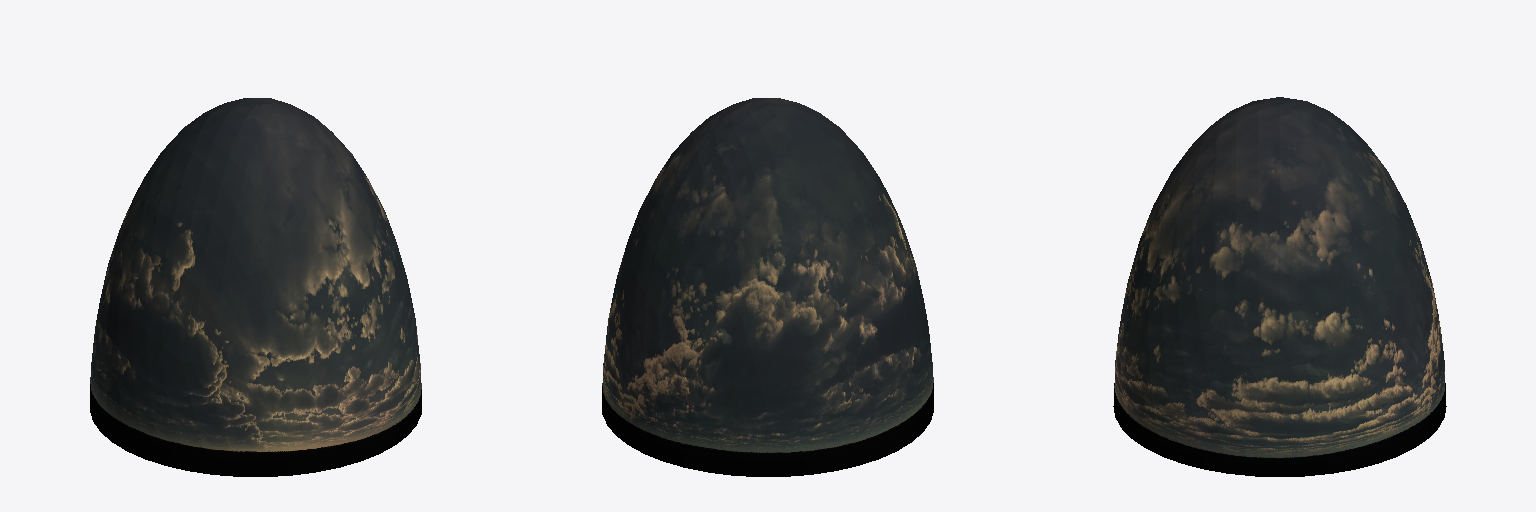
3 views of the same model, side by side, from view 1: azimuth 30°, elevation 25°; view 2: azimuth 150°, elevation 25°; view 3: azimuth 270°, elevation 25° (orthographic).
Parts seen in each view (by area): view 1: Sphere_Sphere_Material.001_SkyDome-Cloud-Medium-; view 2: Sphere_Sphere_Material.001_SkyDome-Cloud-Medium-; view 3: Sphere_Sphere_Material.001_SkyDome-Cloud-Medium-.
Boxes of the visible parts, x1=… form: Sphere_Sphere_Material.001_SkyDome-Cloud-Medium-: x1=90, y1=98, x2=421, y2=476; Sphere_Sphere_Material.001_SkyDome-Cloud-Medium-: x1=602, y1=98, x2=933, y2=476; Sphere_Sphere_Material.001_SkyDome-Cloud-Medium-: x1=1113, y1=97, x2=1446, y2=476.
Bounding box in the file's own units: 1800 × 1800 × 1800.
1 materials, 1 textured.